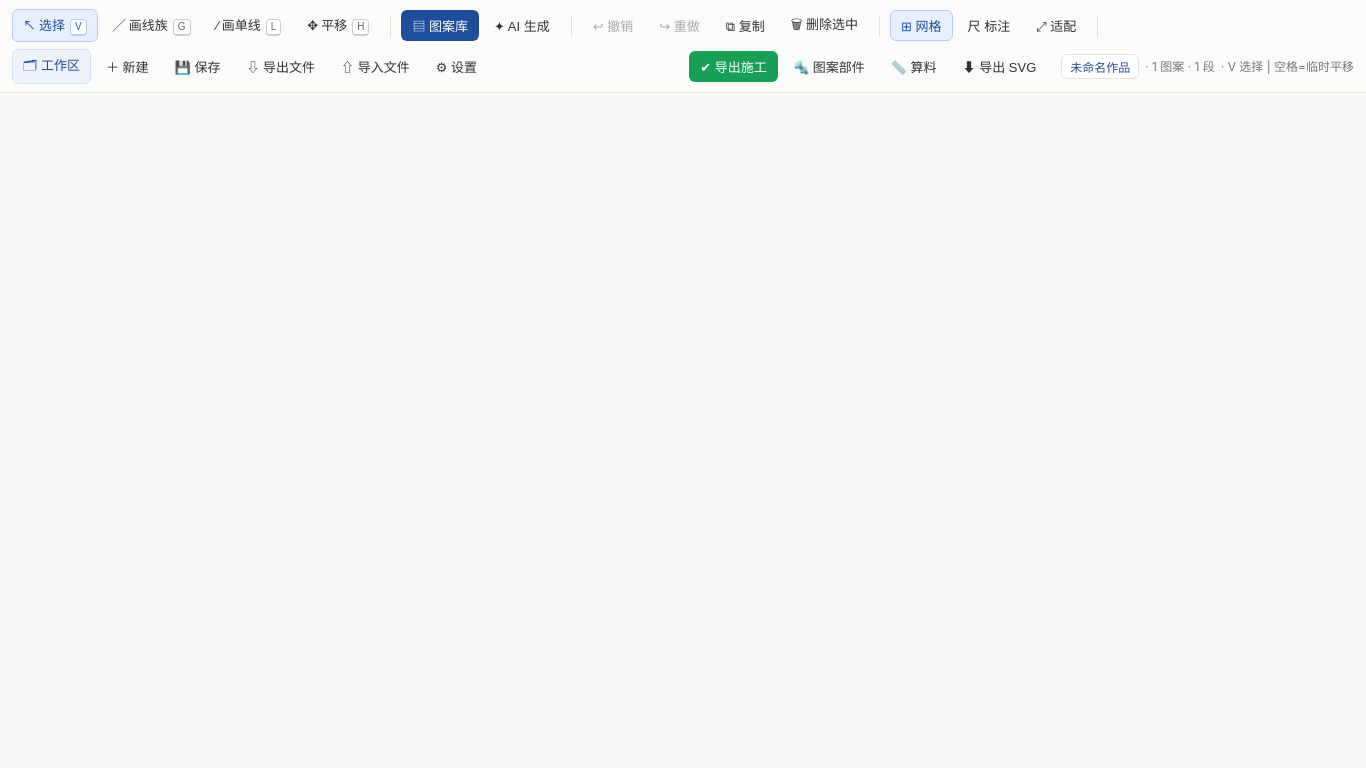
Toolbar：导出文件 / 导入文件 › 点「导出文件」先弹出命名弹窗（输入导出文件名）
Click the button "⇩ 导出文件": {"x": 281, "y": 66} left=235, top=51, right=326, bottom=82
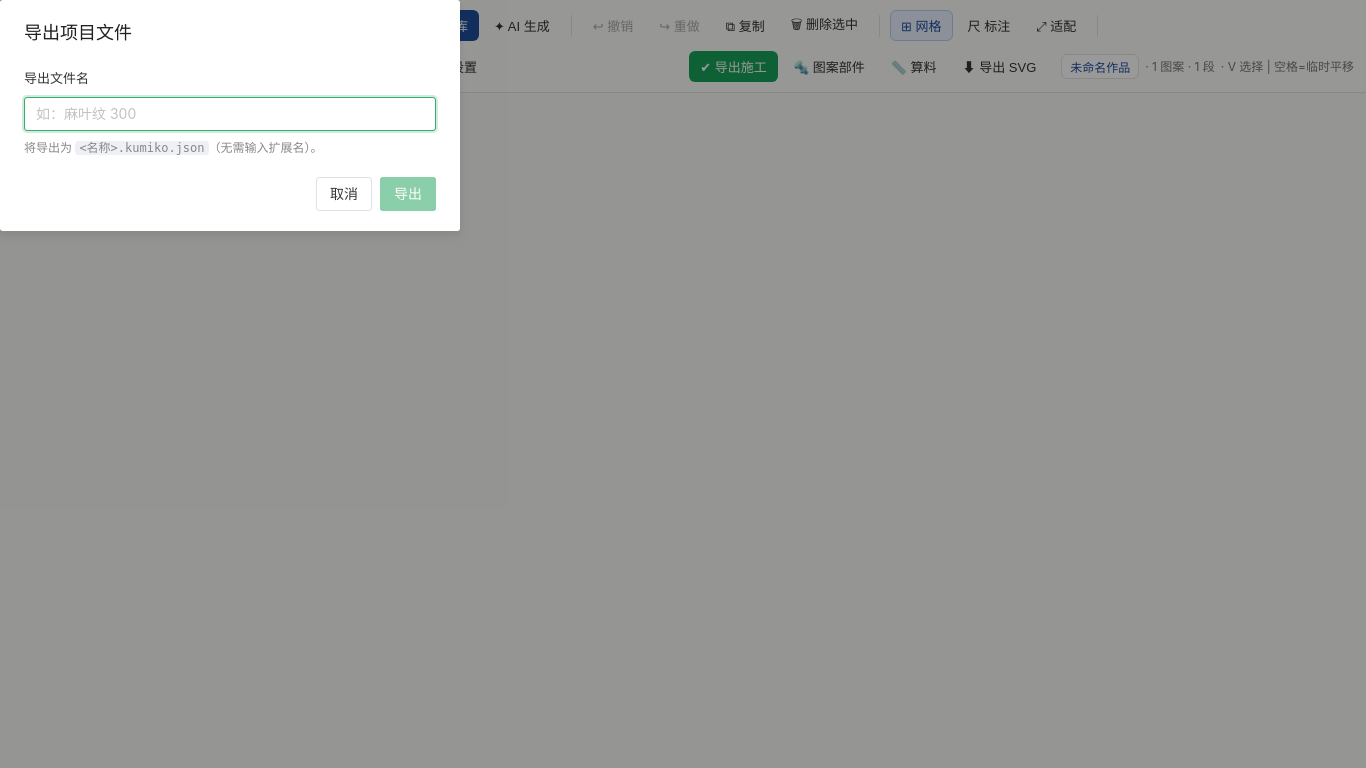
Now the text "导出项目文件" is shown, box left=24, top=22, right=132, bottom=43
Now the text "导出文件名" is shown, box left=24, top=70, right=89, bottom=86
Now the button "导出" is disabled, box left=380, top=177, right=436, bottom=211
